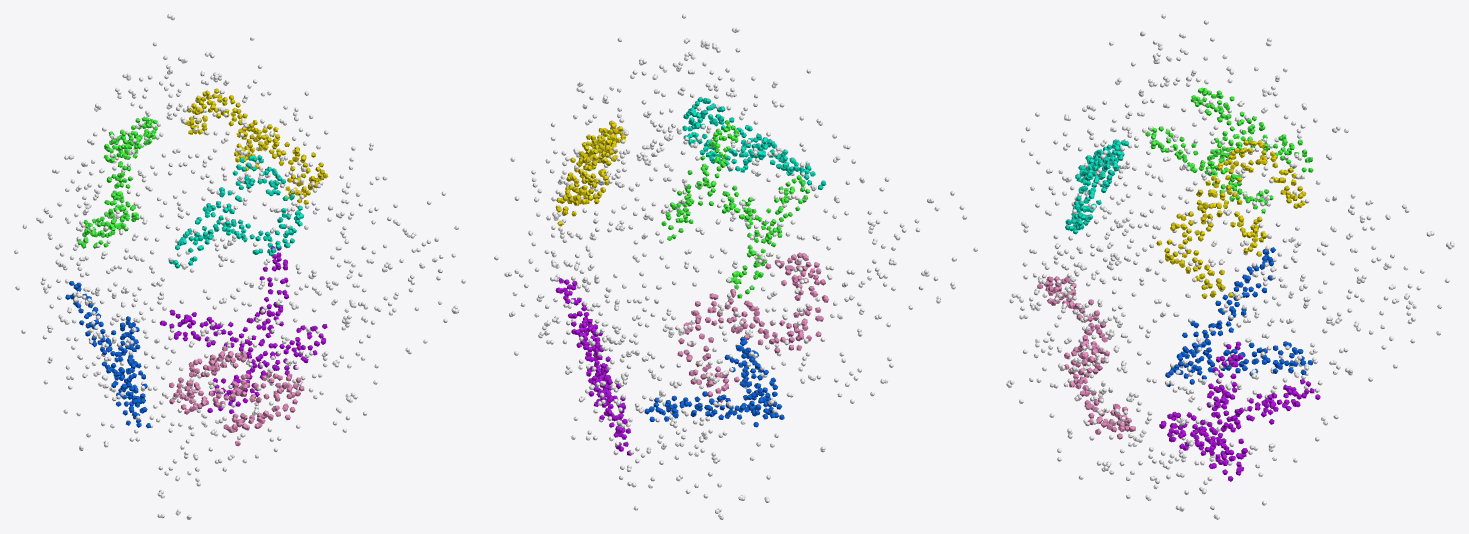
The picture shows the model from 3 angles, left to right: view 1: azimuth 30°, elevation 25°; view 2: azimuth 150°, elevation 25°; view 3: azimuth 270°, elevation 25°; orthographic projection. The views are drawn at different scales.
Parts seen in each view (by area): view 1: 6men; view 2: 6men; view 3: 6men.
Part boxes in pixels (x1=…): 6men: x1=14, y1=14, x2=465, y2=519; 6men: x1=494, y1=14, x2=977, y2=519; 6men: x1=1006, y1=14, x2=1454, y2=519.
Size of the model in its own units: 14.3 by 14.76 by 12.13.
Materials: 1 (1 with a texture image).
